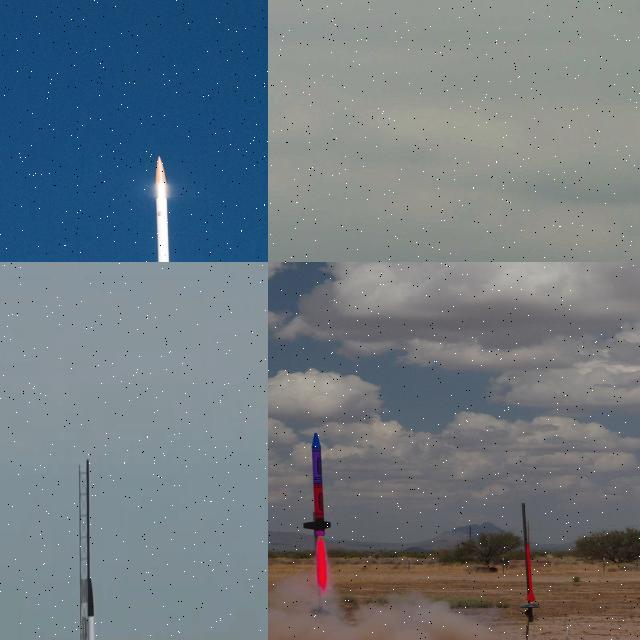Rocket: (141, 154, 187, 262), (304, 432, 332, 538), (80, 576, 105, 640), (525, 543, 536, 603)
